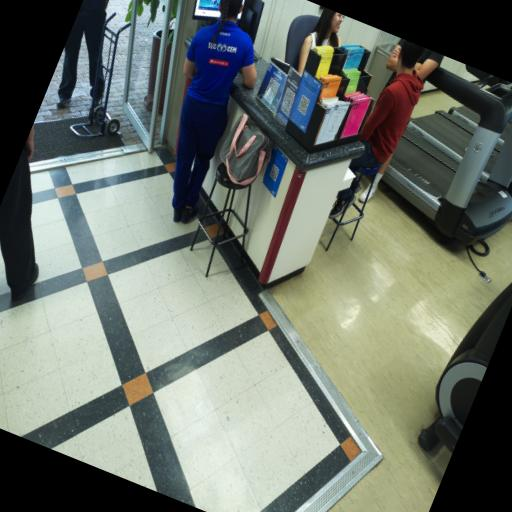person: (172, 0, 257, 223), (350, 40, 424, 172), (0, 127, 38, 301), (57, 0, 108, 108), (298, 8, 344, 73), (359, 154, 392, 202)
